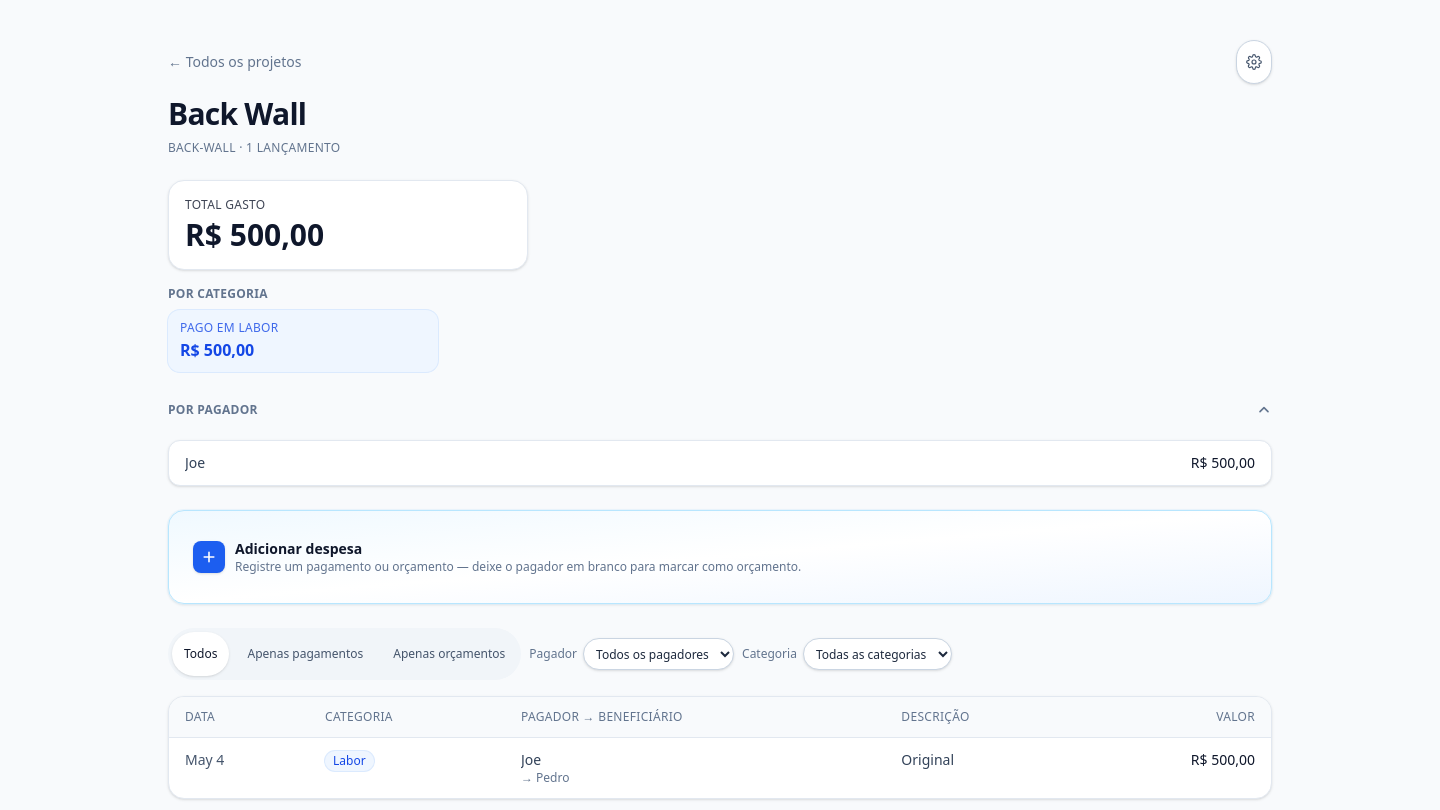
Test case: save recovery › closes the expense modal on conflict and exposes translated recovery (pt)
This screenshot has width=1440, height=810.
Click the text "→ Pedro": point(545, 778) x1=521 y1=769 x2=570 y2=786
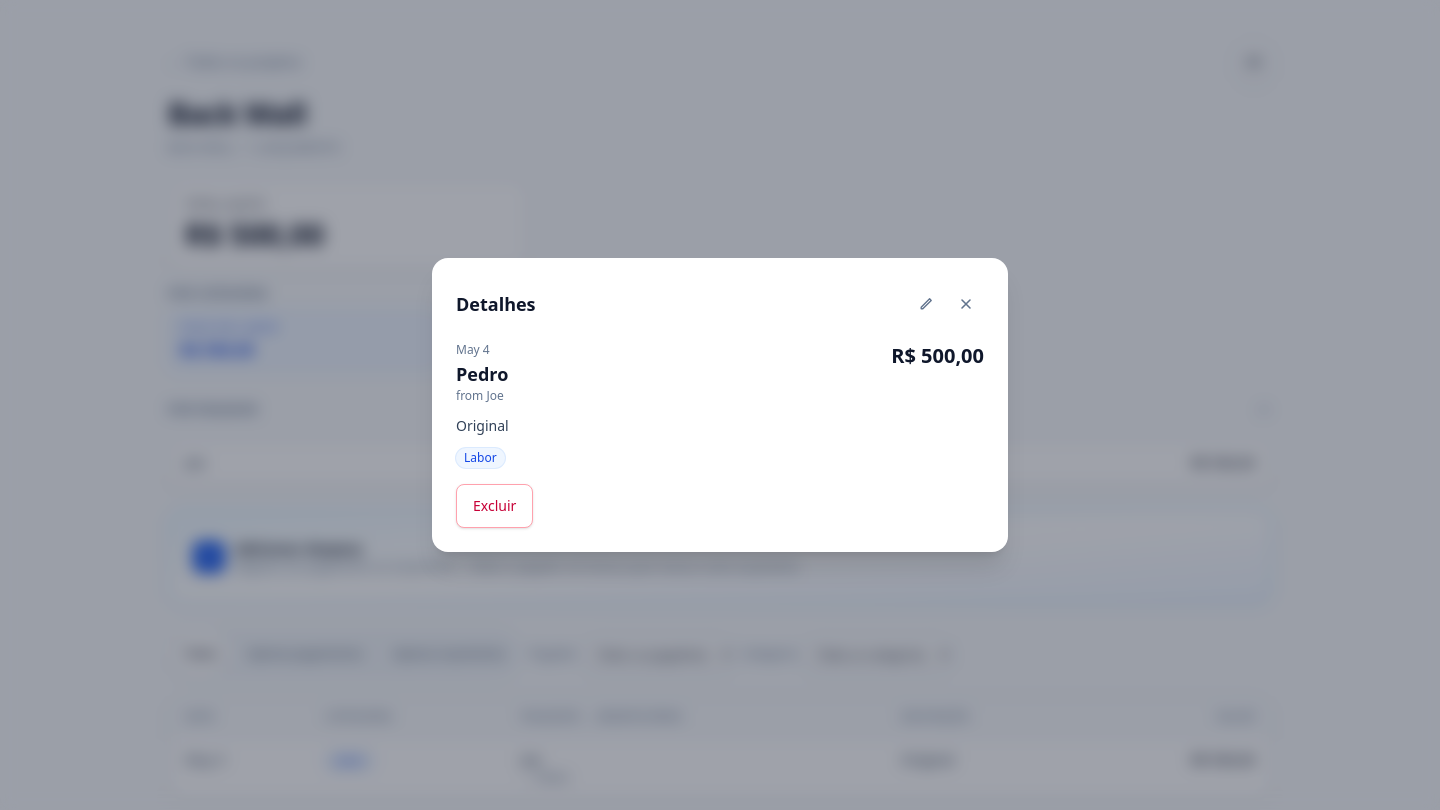
Click the button named "Editar": point(926, 304) x1=908 y1=282 x2=944 y2=326
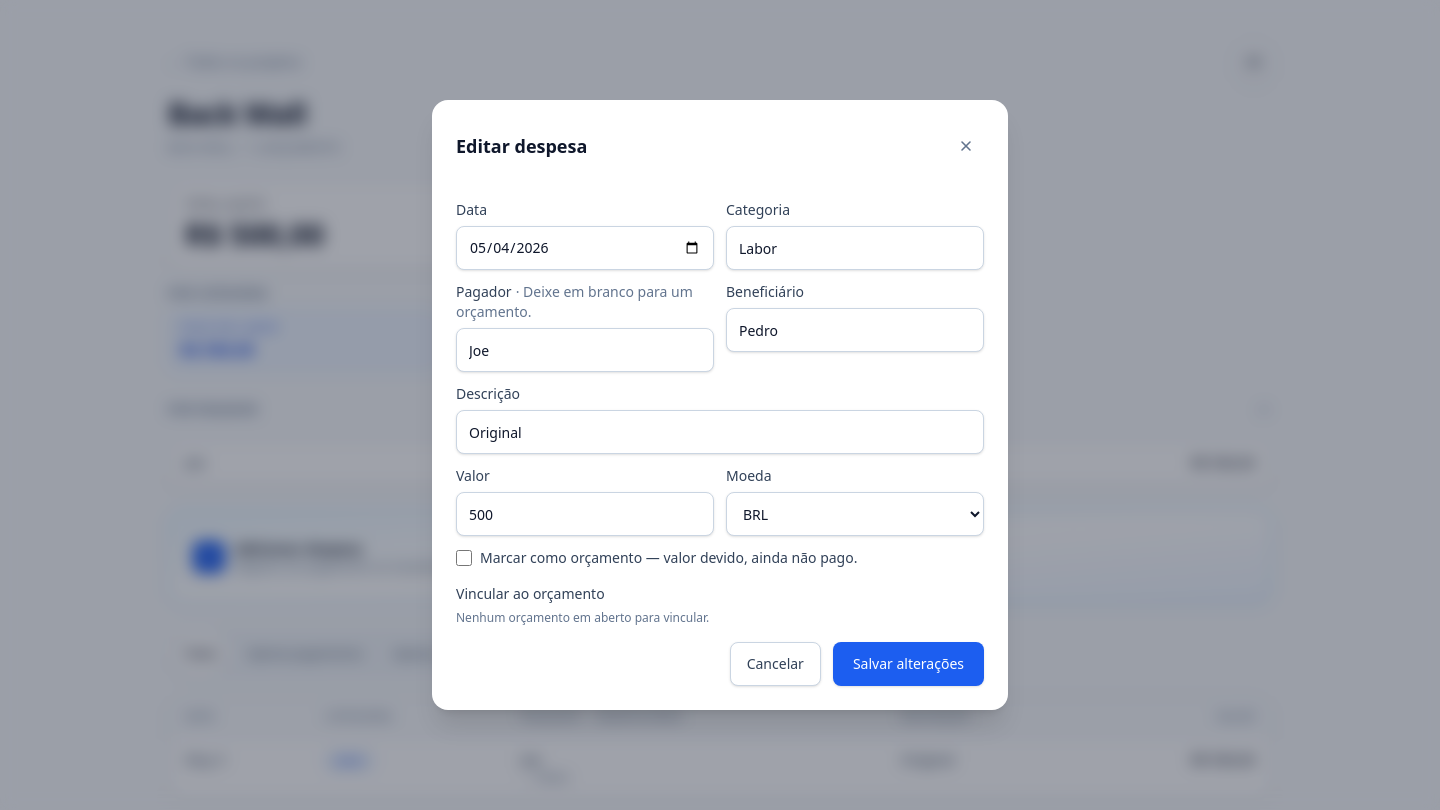
Replace the text in the number field labelled "Valor" with "750": point(585, 514) x1=456 y1=492 x2=714 y2=536
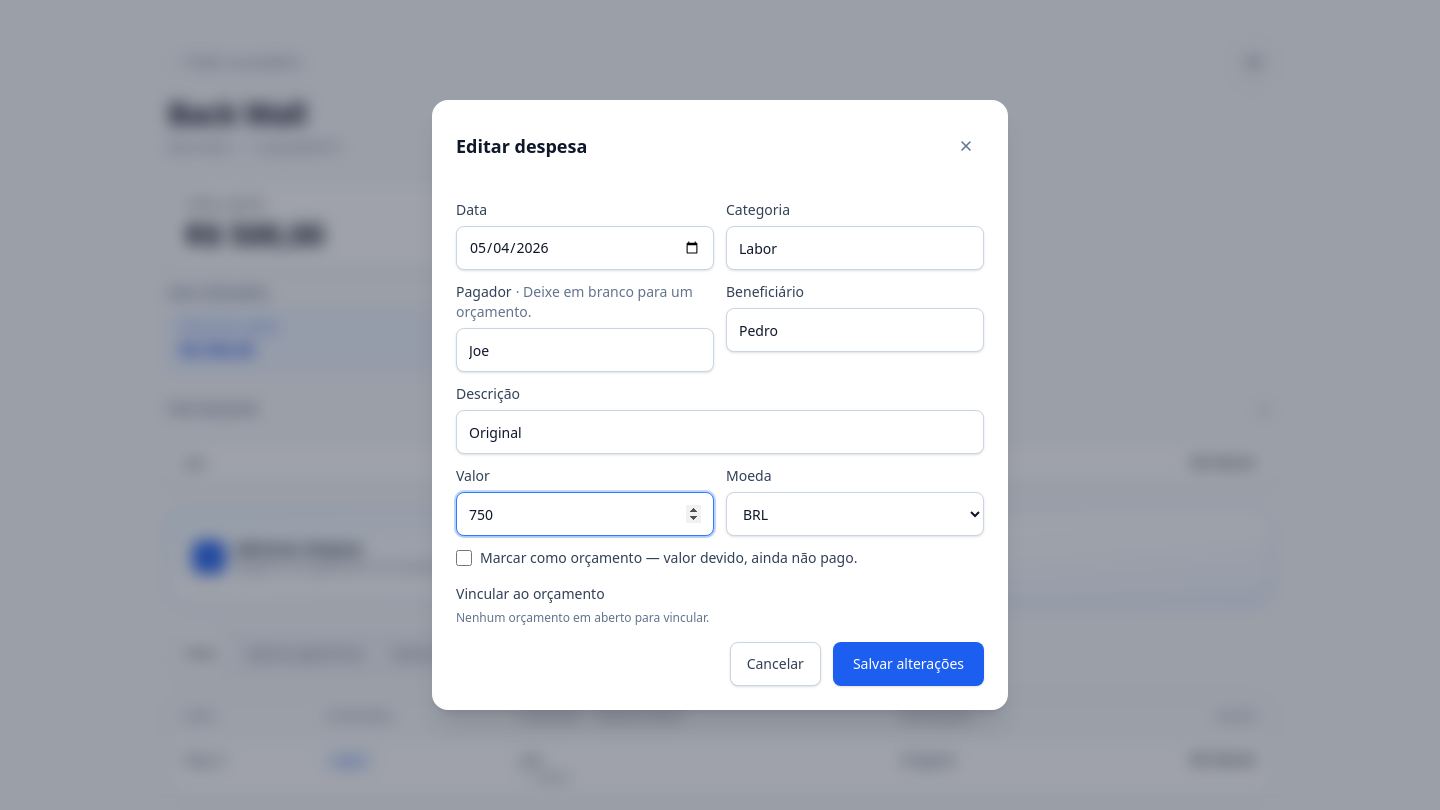
Click the button "Salvar alterações": point(908, 664) x1=833 y1=642 x2=984 y2=686
(page scrolled)
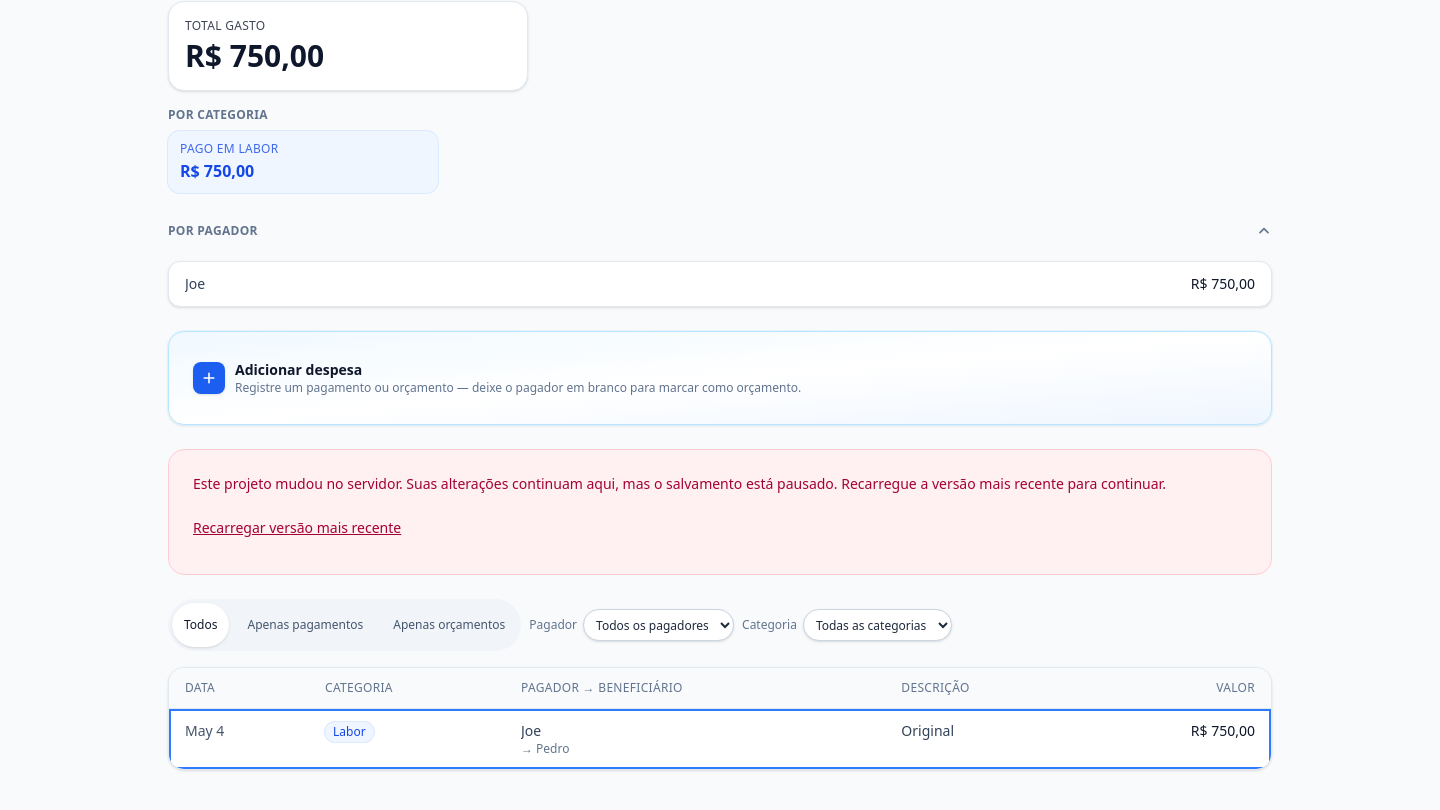
Result: the dialog is gone
Result: the message shows "salvamento está pausado" at x1=193 y1=474 x2=1166 y2=493
Result: the button "Recarregar versão mais recente" is shown at x1=193 y1=506 x2=401 y2=550
